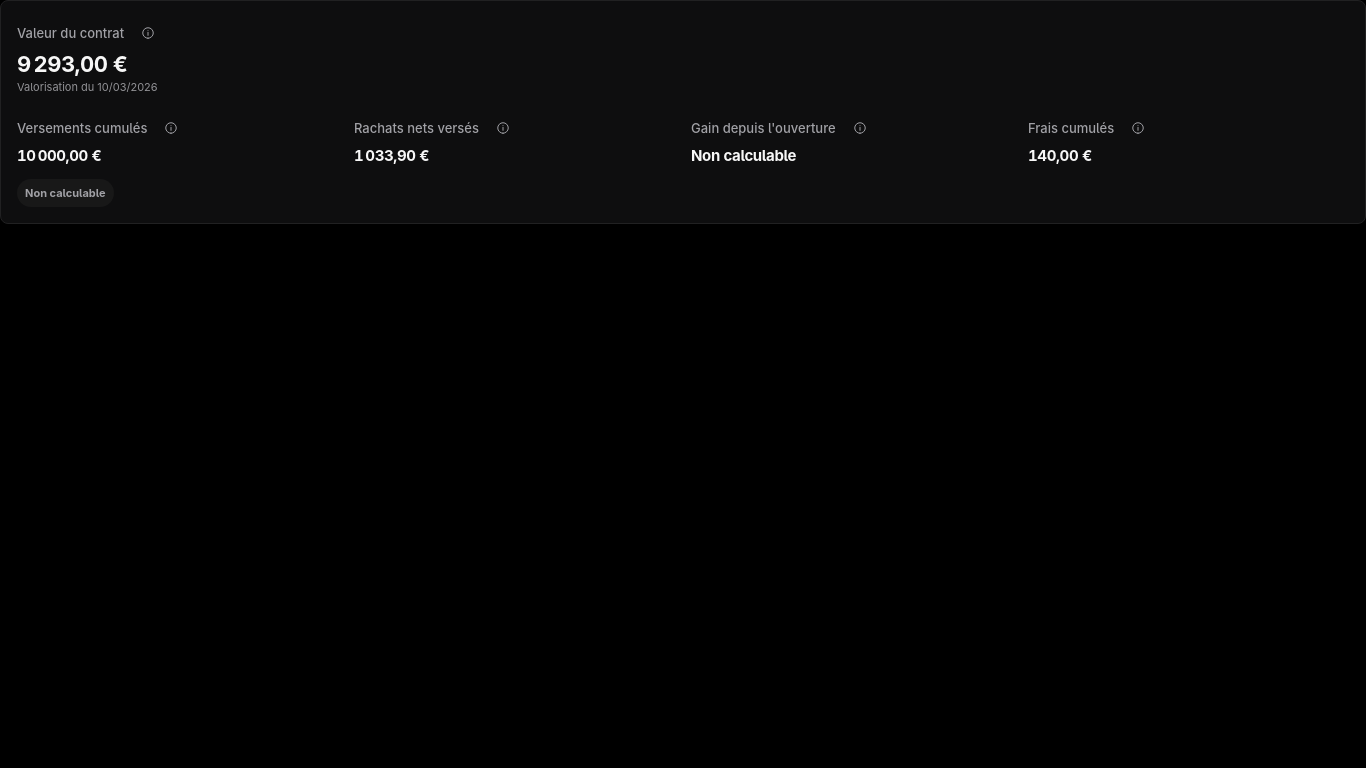
Scenario: LifeInsuranceOverview › keeps a null gain non calculable with its quality and reasons
Expected: the text "Non calculable" below "Gain depuis l'ouverture" is shown, [691,146,796,164]
Click the button named "Expliquer : Gain depuis l'ouverture" at x=860, y=128, box [844,112,876,144]
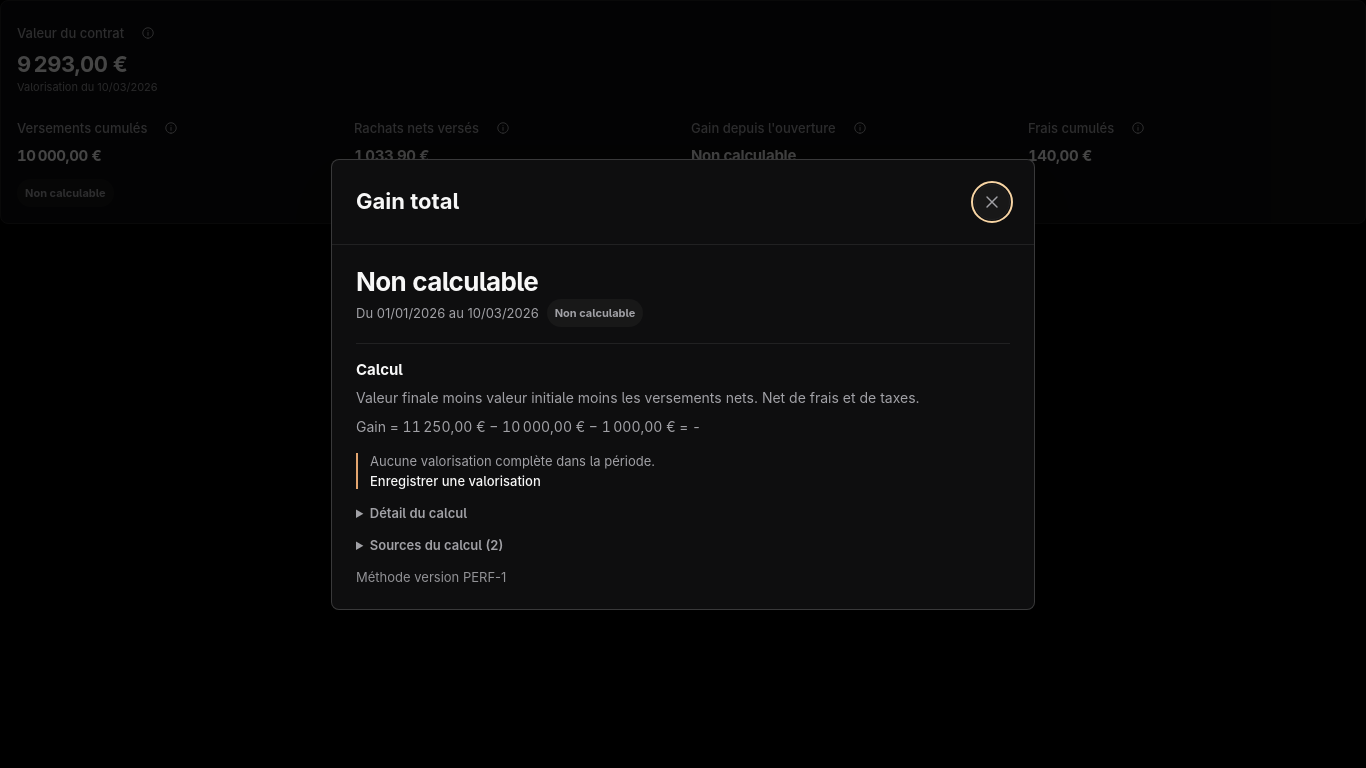
Now the text "Aucune valorisation complète dans la période." is shown, box [370,452,655,468]
